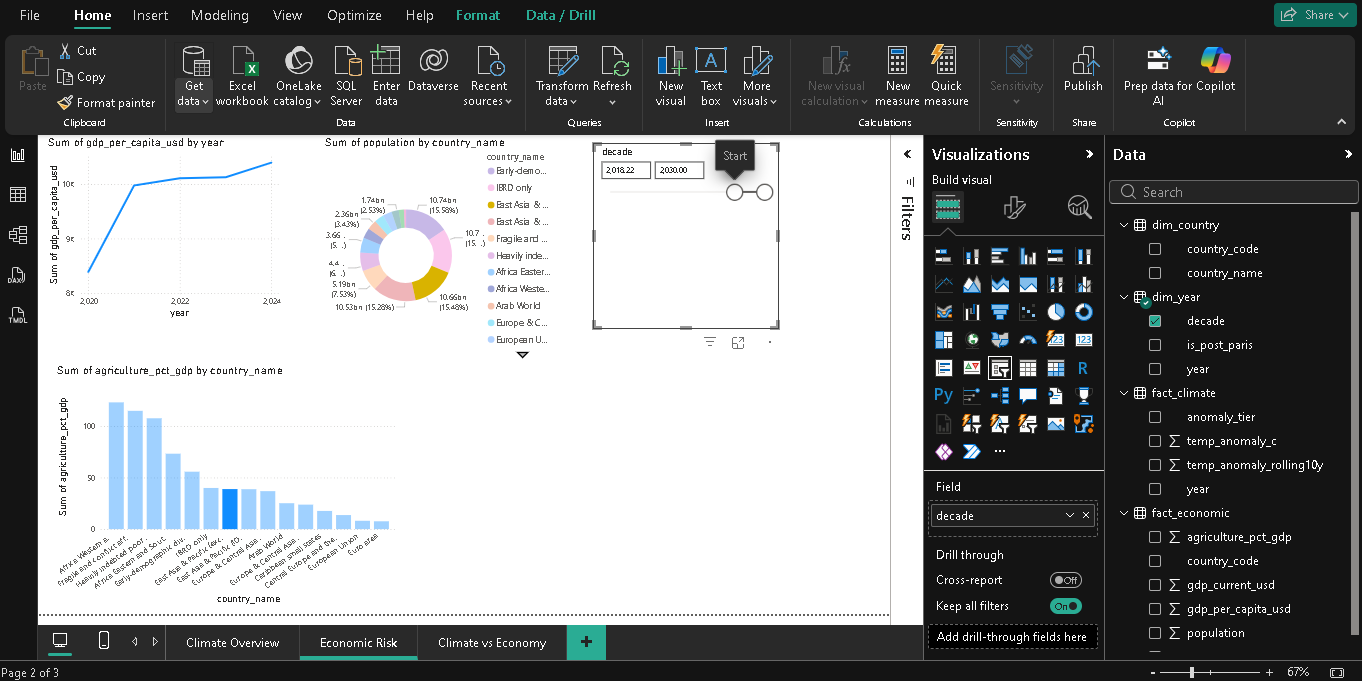

The dashboard page shown, as its layout file describes it:
{"tool":"powerbi","page":{"name":"Economic Risk","canvas":[1280,720],"ordinal":1},"visuals":[{"type":"lineChart","fields":{"Category":["fact_economic.year"],"Y":["Sum(fact_economic.gdp_per_capita_usd)"]},"box":[10.5,0,359.1,279.4],"z":0},{"type":"donutChart","fields":{"Category":["dim_country.country_name"],"Y":["Sum(fact_economic.population)"]},"box":[426.7,0,357.6,342.5],"z":1000},{"type":"clusteredColumnChart","fields":{"Category":["dim_country.country_name"],"Y":["Sum(fact_economic.agriculture_pct_gdp)"]},"box":[24,342.5,519.8,366.6],"z":2000},{"type":"slicer","fields":{"Values":["dim_year.decade"]},"box":[833.8,12,279.4,279.4],"z":3000}]}

Visuals, with their boxes on the page's 1280x720 design canvas (x1, y1, x2, y2). These are canvas units, not pixel positions in the 1362x681 screenshot, which may show the page scaled, cropped or inside an application window:
lineChart - fact_economic.year x Sum(fact_economic.gdp_per_capita_usd): bbox=(10, 0, 370, 279)
donutChart - dim_country.country_name x Sum(fact_economic.population): bbox=(427, 0, 784, 342)
clusteredColumnChart - dim_country.country_name x Sum(fact_economic.agriculture_pct_gdp): bbox=(24, 342, 544, 709)
slicer - dim_year.decade: bbox=(834, 12, 1113, 291)
